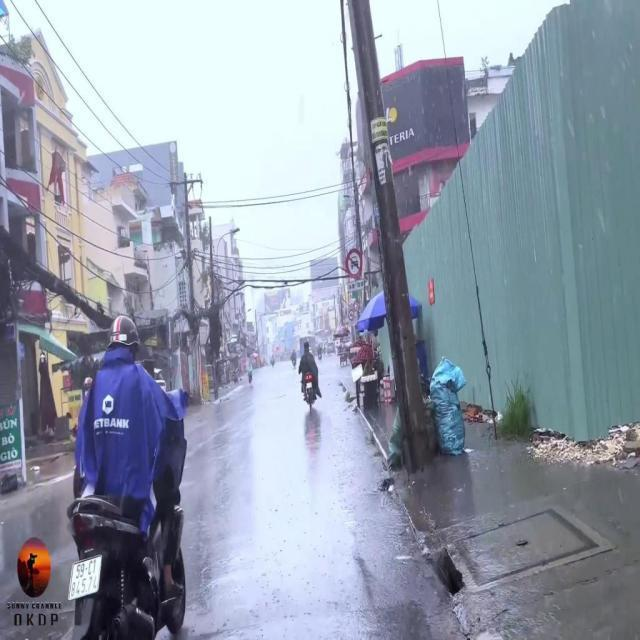103a-cam-oto: (344, 248, 364, 278)
